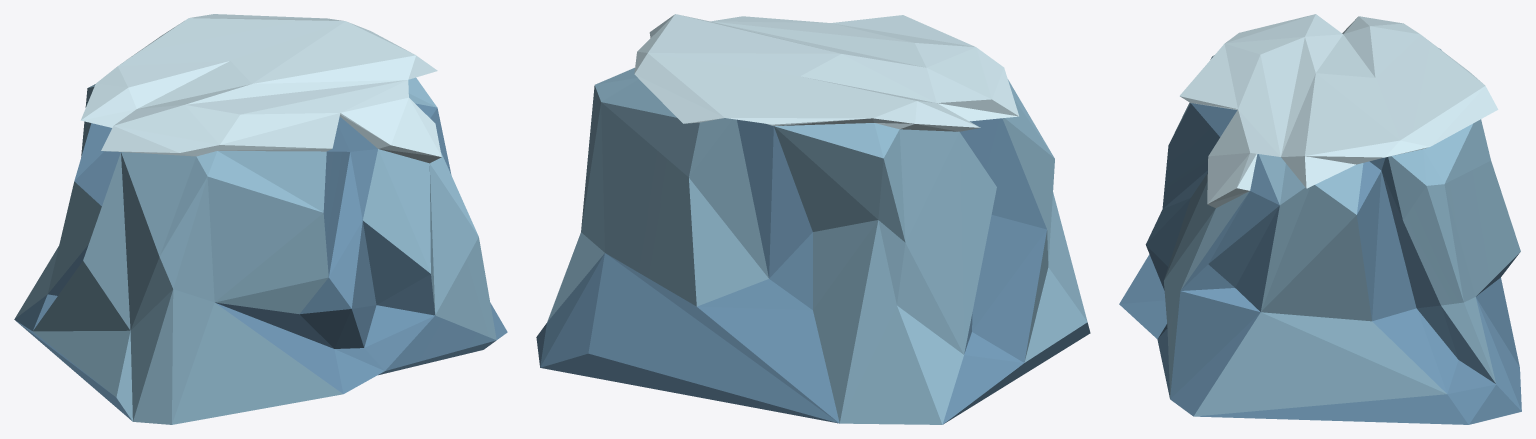
The model's file is Glacier_Level2.glb.
3 views of the same model, side by side, from view 1: azimuth 30°, elevation 25°; view 2: azimuth 150°, elevation 25°; view 3: azimuth 270°, elevation 25° (orthographic). The views are drawn at different scales.
Parts seen in each view (by area): view 1: SM_Env_Glacier_03; view 2: SM_Env_Glacier_03; view 3: SM_Env_Glacier_03.
Boxes of the visible parts, x1=… form: SM_Env_Glacier_03: x1=14, y1=14, x2=507, y2=424; SM_Env_Glacier_03: x1=536, y1=14, x2=1090, y2=424; SM_Env_Glacier_03: x1=1119, y1=14, x2=1521, y2=424.
Size of the model in its own units: 6.7 by 4.24 by 5.91.
Materials: 1 (1 with a texture image).
